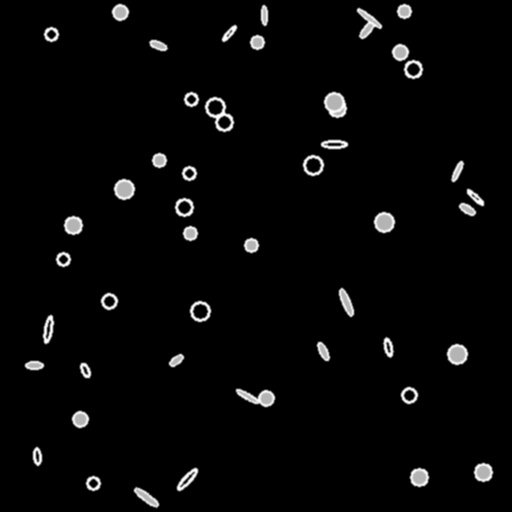pseudomonas: (132, 485, 160, 509), (175, 467, 199, 491), (356, 7, 382, 29), (338, 287, 354, 317), (235, 388, 259, 404), (358, 19, 376, 39), (466, 188, 484, 206), (450, 160, 464, 182), (316, 341, 330, 361), (43, 316, 53, 342), (221, 25, 237, 41), (458, 202, 476, 216), (168, 353, 184, 367), (149, 39, 167, 51), (322, 140, 347, 148), (79, 362, 91, 378), (383, 338, 393, 356), (33, 448, 41, 464), (25, 362, 42, 369), (261, 6, 267, 24)
synechocystis: (304, 156, 322, 174), (191, 302, 209, 320), (115, 180, 133, 198), (448, 345, 466, 363), (375, 213, 393, 231), (325, 93, 343, 111), (206, 98, 224, 116), (329, 100, 345, 116), (65, 217, 81, 233), (405, 61, 421, 77), (411, 469, 427, 485), (475, 464, 491, 480), (176, 199, 192, 215), (216, 114, 232, 130), (393, 45, 407, 59), (113, 5, 127, 19), (259, 391, 273, 405), (102, 294, 116, 308), (402, 388, 416, 402), (73, 412, 87, 426), (45, 28, 57, 40), (184, 227, 196, 239), (57, 253, 69, 265), (183, 167, 195, 179), (185, 93, 197, 105), (153, 154, 165, 166), (87, 477, 99, 489), (251, 36, 263, 48), (245, 239, 257, 251), (398, 5, 410, 17)
